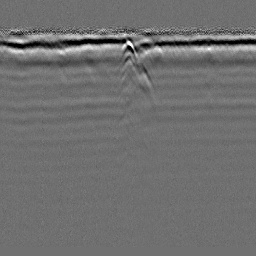cavity: (117, 38, 140, 66)
